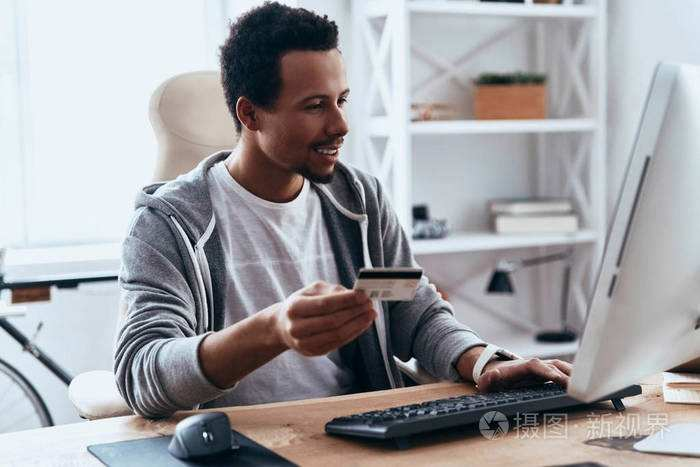no-phone: (254, 264, 427, 358)
